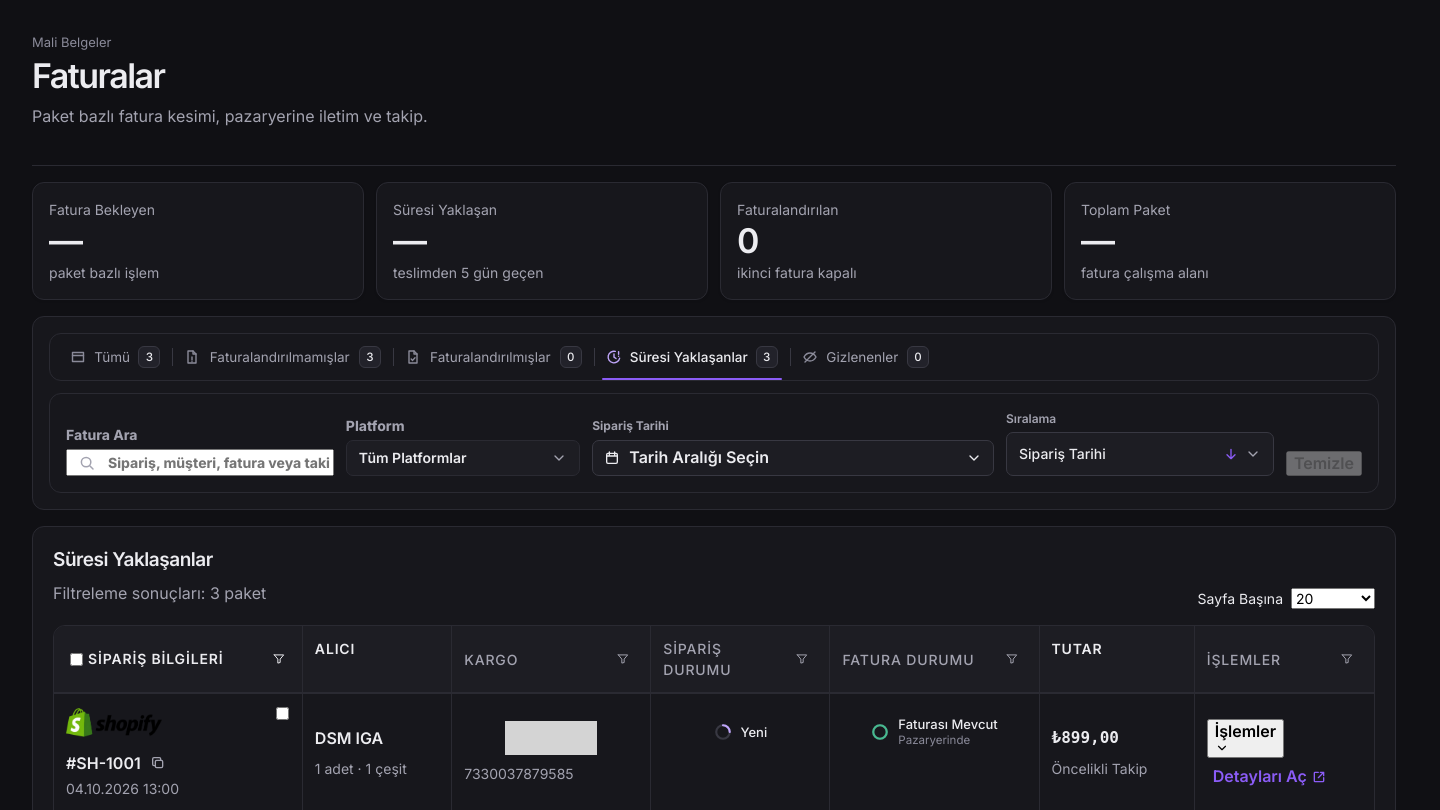
Test: InvoicesPage Shopify bulk invoice status › locks the invoice status refresh when the row offers no marketplace check
Click the button with class "invoice-reference-actions-trigger". click: click(1245, 738)
box: x1=1207 y1=719 x2=1284 y2=758
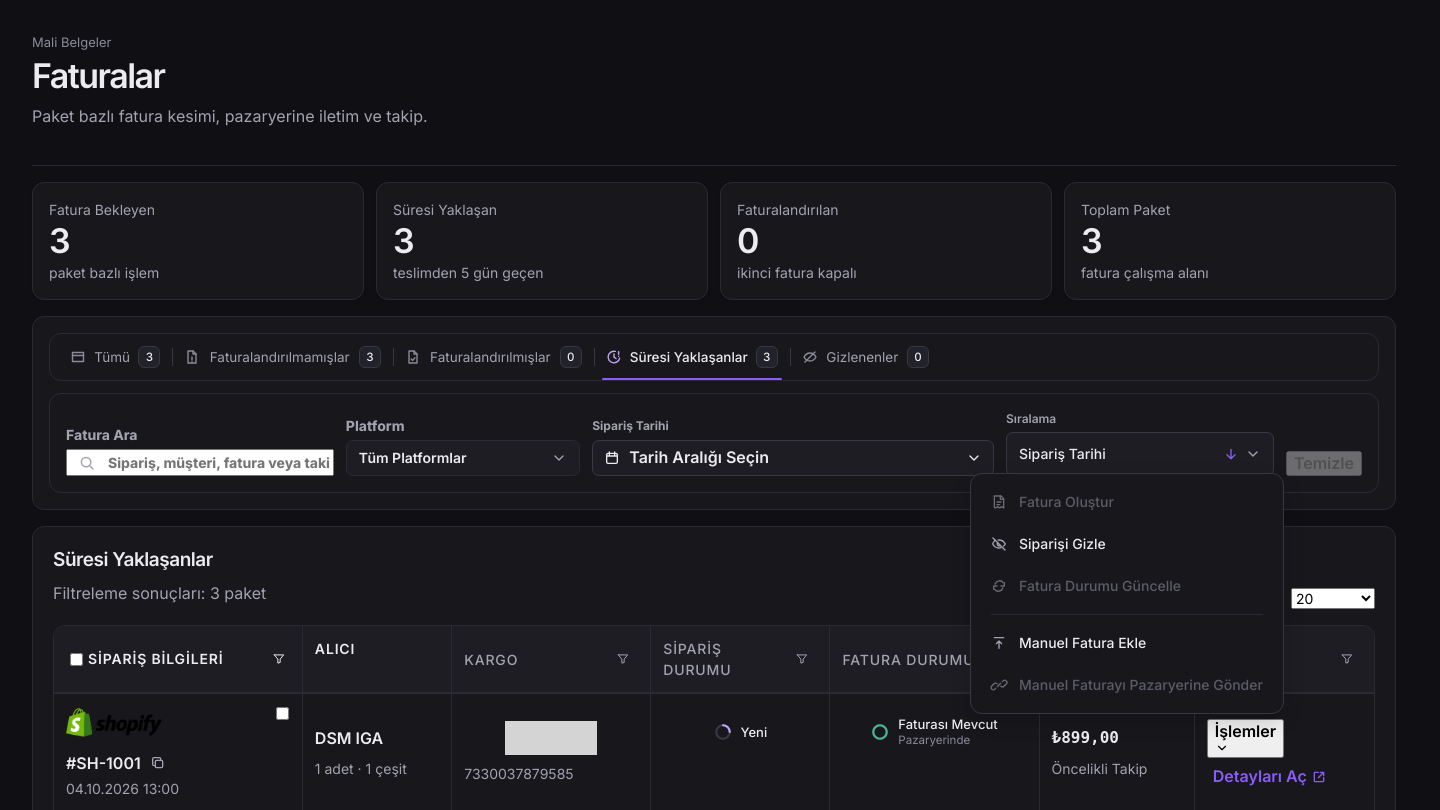
Check: the menu item "Fatura Durumu Güncelle" is disabled, box x1=979 y1=566 x2=1275 y2=606
